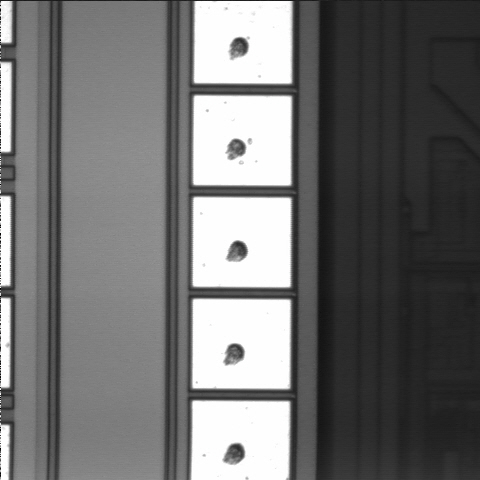pad: (193, 197, 291, 287), (192, 299, 290, 389), (193, 96, 291, 185)
